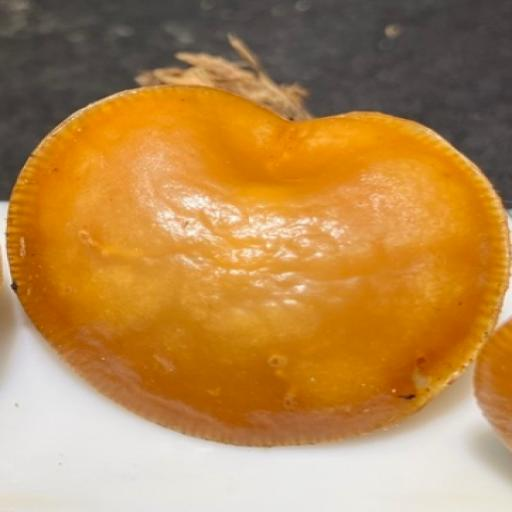Funeral Bell: (10, 80, 512, 449)
